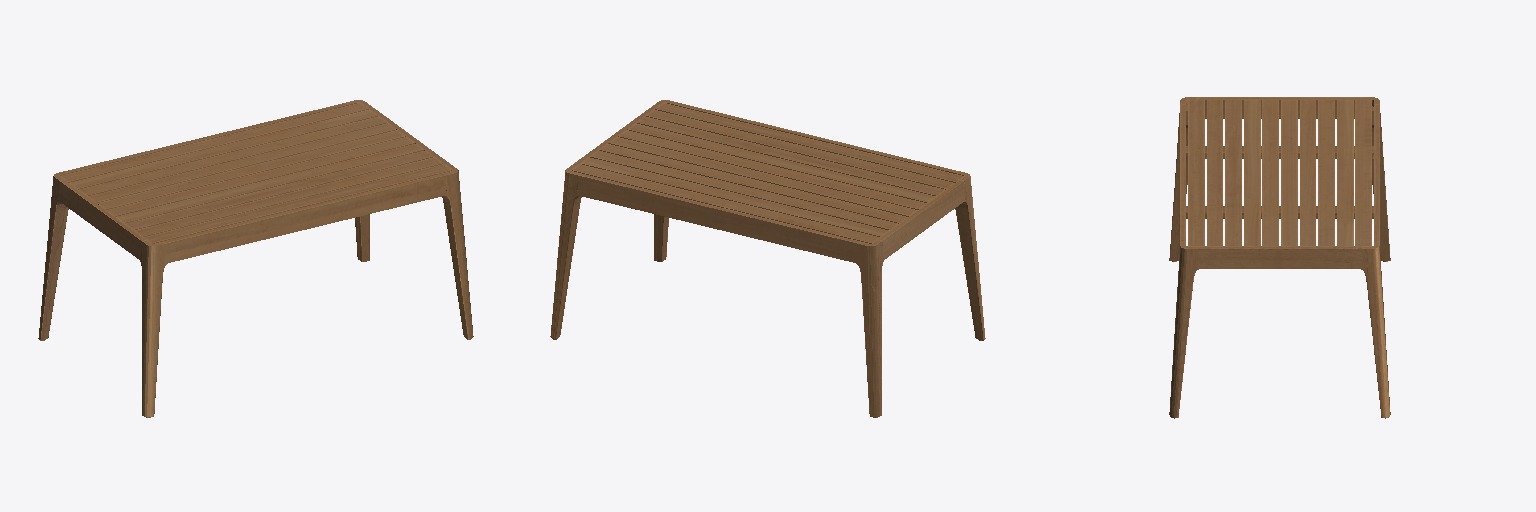
3 renders of one model, left to right at view 1: azimuth 30°, elevation 25°; view 2: azimuth 150°, elevation 25°; view 3: azimuth 270°, elevation 25°, orthographic.
Parts seen in each view (by area): view 1: solid_001; view 2: solid_001; view 3: solid_001.
Boxes of the visible parts, box(x1,y1,x2,y2) form: solid_001: box(38, 100, 473, 417); solid_001: box(550, 100, 985, 417); solid_001: box(1169, 97, 1390, 418).
Size of the model in its own units: 2 by 0.9603 by 1.16.
Materials: 1 (1 with a texture image).